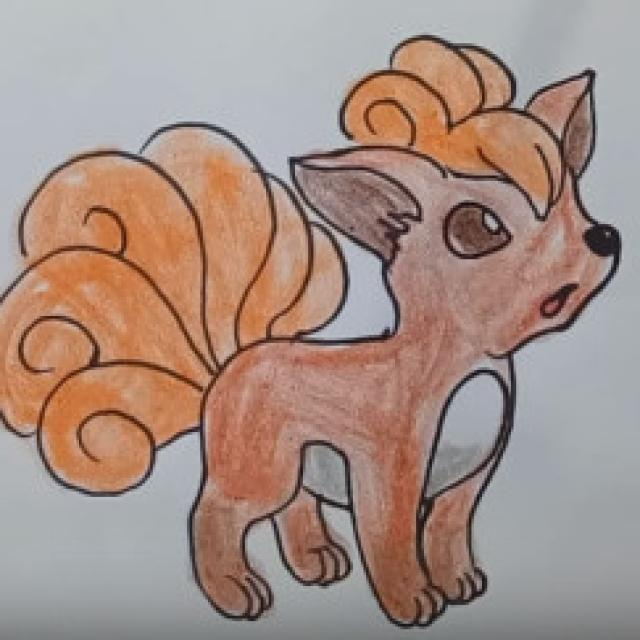Vulpix: (189, 76, 616, 622)
